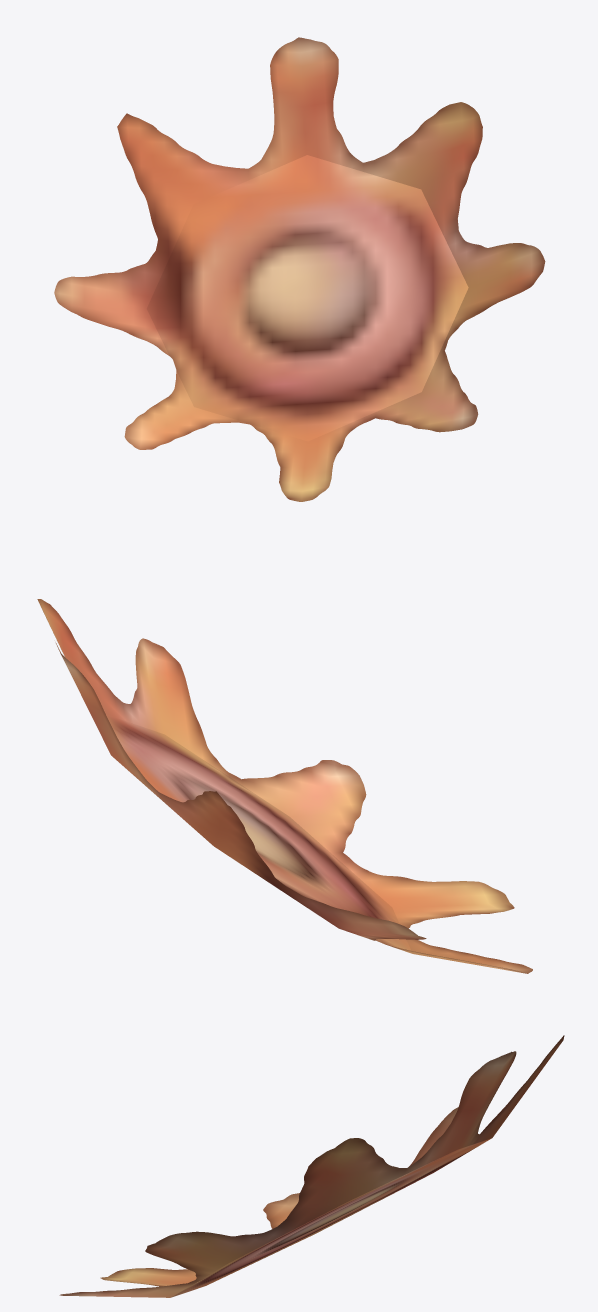
The model's file is Sea_haixing02.FBX.
The picture shows the model from 3 angles, top to bottom: view 1: azimuth 30°, elevation 25°; view 2: azimuth 150°, elevation 25°; view 3: azimuth 270°, elevation 25°; orthographic projection. The views are drawn at different scales.
Parts seen in each view (by area): view 1: objluoke; view 2: objluoke; view 3: objluoke.
Boxes of the visible parts, x1,y1,x2,y2 form: objluoke: (54, 37, 545, 501); objluoke: (37, 599, 532, 973); objluoke: (59, 1035, 564, 1297).
Bounding box in the file's own units: 16.23 × 11.32 × 16.77.
